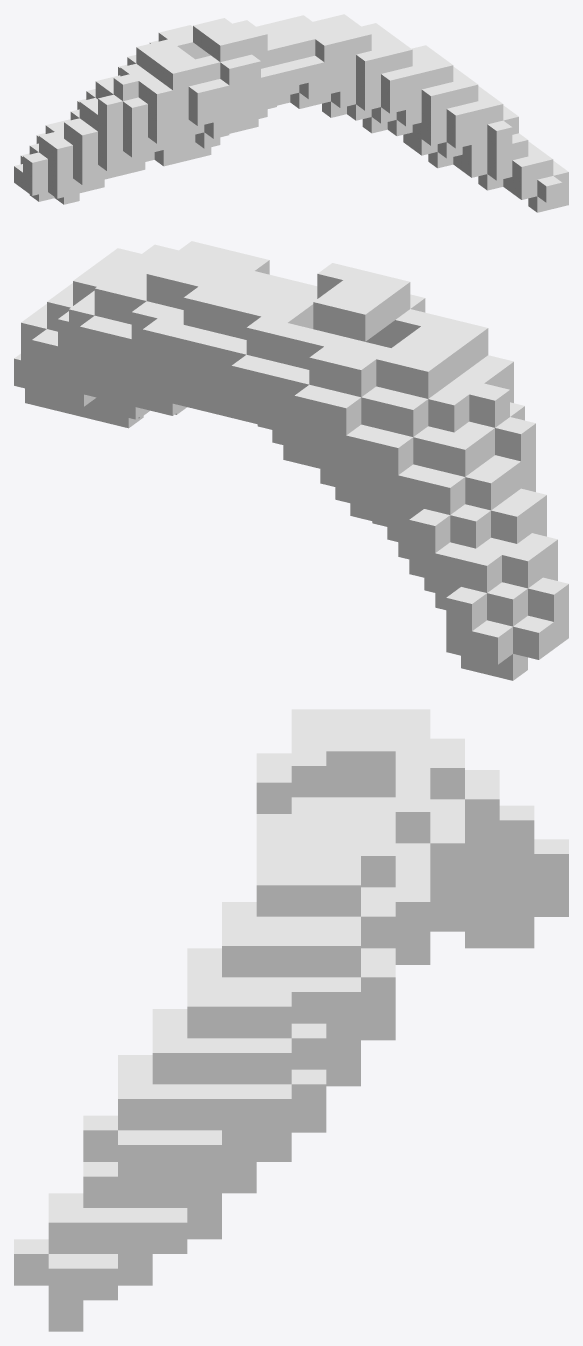
Rendered from voxel03_optimized.fbx.
3 renders of one model, top to bottom at view 1: azimuth 30°, elevation 25°; view 2: azimuth 150°, elevation 25°; view 3: azimuth 270°, elevation 25°, orthographic. The views are drawn at different scales.
Parts seen in each view (by area): view 1: voxelize; view 2: voxelize; view 3: voxelize.
Boxes of the visible parts, <box> form: voxelize: <box>14,14,568,212</box>; voxelize: <box>14,241,568,680</box>; voxelize: <box>14,709,568,1331</box>.
Bounding box in the file's own units: 3.24 × 1.32 × 1.92.
